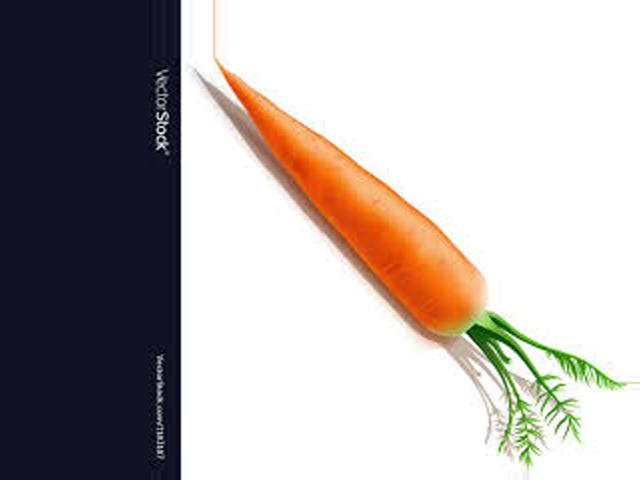carrot: (207, 64, 499, 344)
